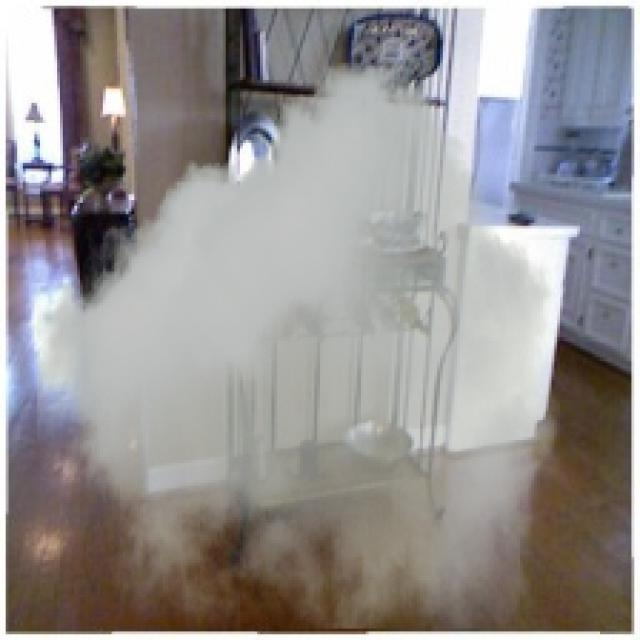Smoke: (37, 62, 560, 628)
